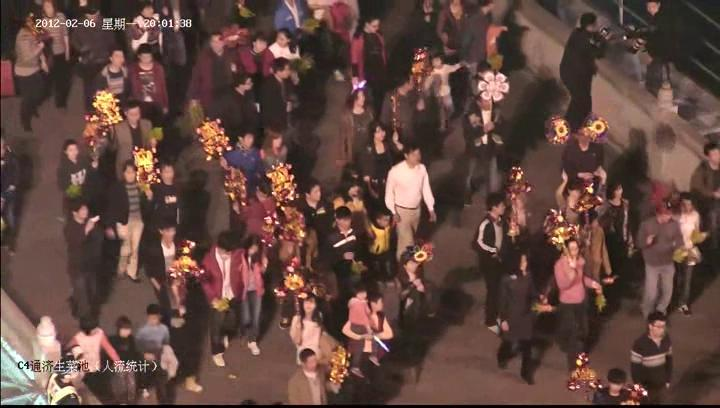person: (491, 242, 548, 384), (554, 231, 603, 380), (62, 196, 113, 321), (200, 230, 245, 371), (387, 142, 439, 257), (346, 287, 397, 404), (389, 136, 441, 247), (623, 306, 678, 408), (474, 185, 510, 340), (104, 162, 149, 280), (148, 219, 196, 327), (643, 201, 685, 323), (463, 88, 507, 204), (238, 229, 273, 364), (671, 191, 707, 322), (137, 304, 183, 406), (627, 310, 676, 404), (15, 12, 50, 134), (634, 2, 677, 100), (67, 315, 116, 398), (383, 69, 433, 150), (564, 12, 599, 126), (424, 52, 470, 137), (40, 1, 74, 111), (350, 14, 396, 92), (559, 119, 618, 179), (300, 178, 335, 279), (220, 126, 268, 198), (461, 1, 509, 73), (110, 315, 147, 408), (694, 143, 720, 272), (327, 204, 366, 290), (193, 30, 241, 98), (287, 345, 338, 406), (336, 82, 375, 160), (129, 42, 173, 111), (51, 141, 94, 208), (78, 0, 112, 84), (0, 126, 21, 256), (401, 2, 450, 56), (95, 45, 133, 111), (152, 156, 187, 226), (266, 58, 299, 132), (289, 291, 328, 350), (590, 366, 642, 408), (226, 71, 256, 136), (263, 126, 290, 198), (262, 29, 303, 67), (270, 0, 312, 32), (244, 33, 275, 73)
